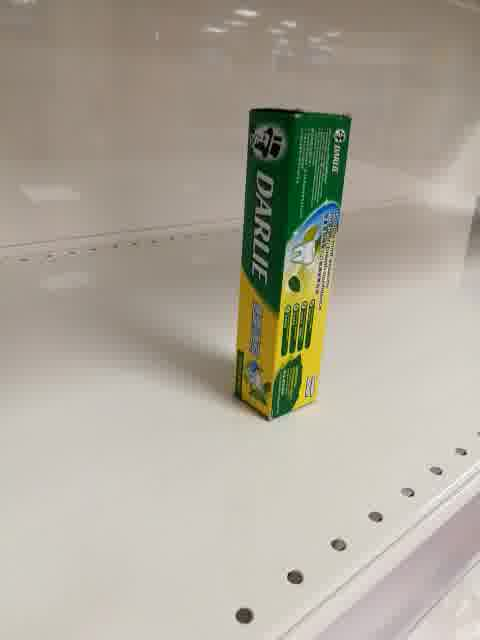toothpaste: (234, 109, 352, 421)
